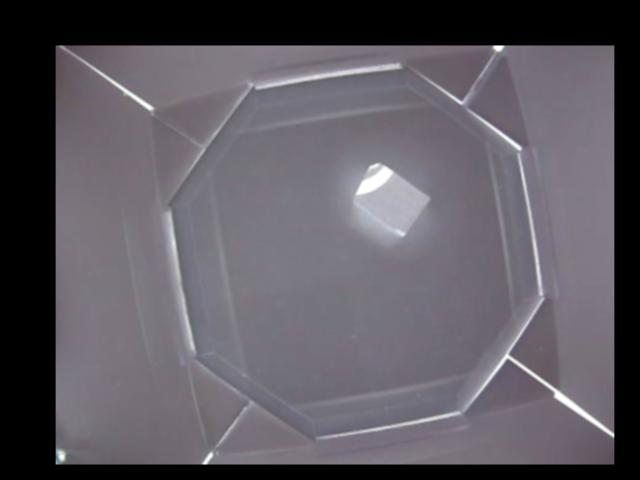China: (355, 163, 429, 236)
